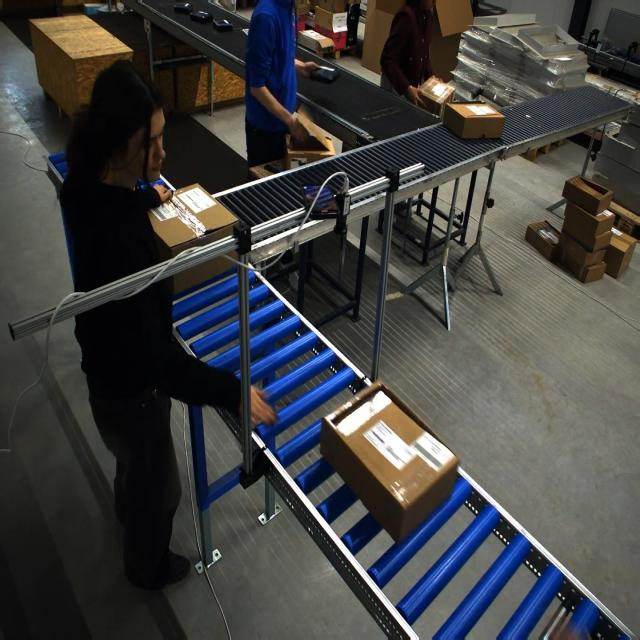box: (324, 394, 451, 540), (145, 183, 239, 290), (443, 100, 507, 140), (286, 131, 333, 169), (416, 75, 455, 118)
product: (310, 67, 339, 85), (190, 11, 213, 23), (212, 18, 233, 31), (173, 2, 193, 14), (242, 28, 249, 38)
